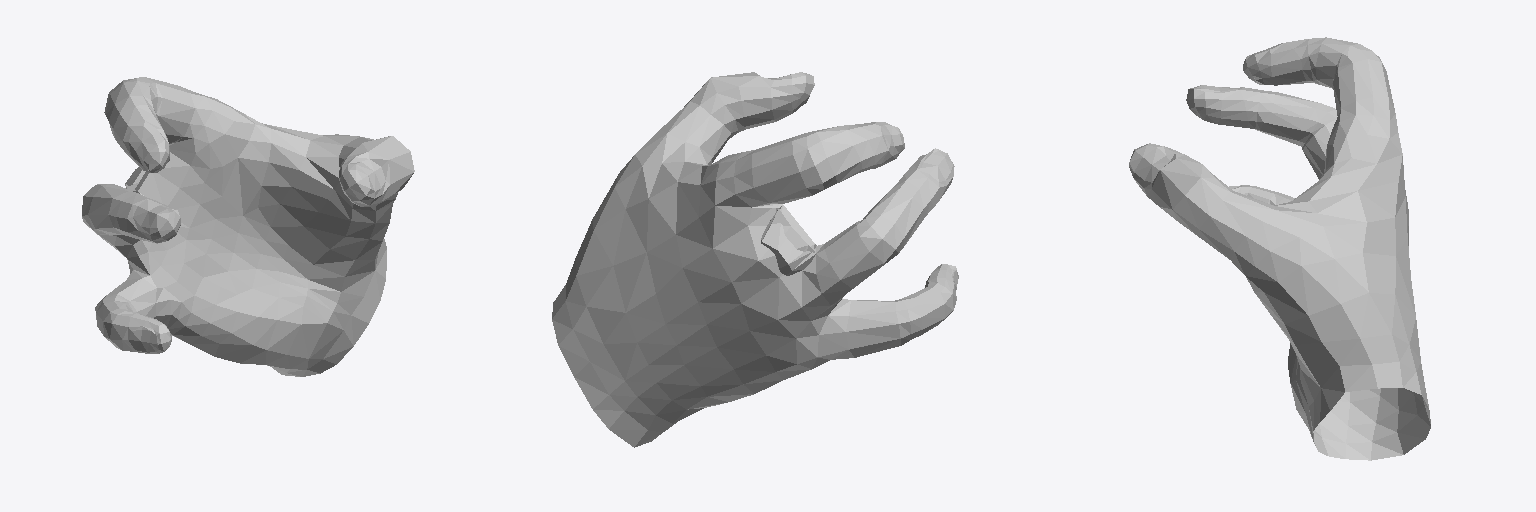
Rendered from wo3_finger_position_param.obj.
3 renders of one model, left to right at view 1: azimuth 30°, elevation 25°; view 2: azimuth 150°, elevation 25°; view 3: azimuth 270°, elevation 25°, orthographic.
Size of the model in its own units: 0.1366 by 0.1336 by 0.108.